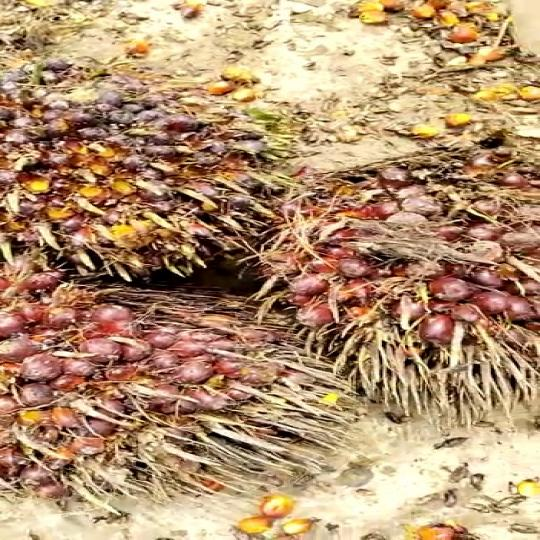masak: (259, 149, 540, 420), (0, 283, 356, 494), (0, 86, 304, 289)
